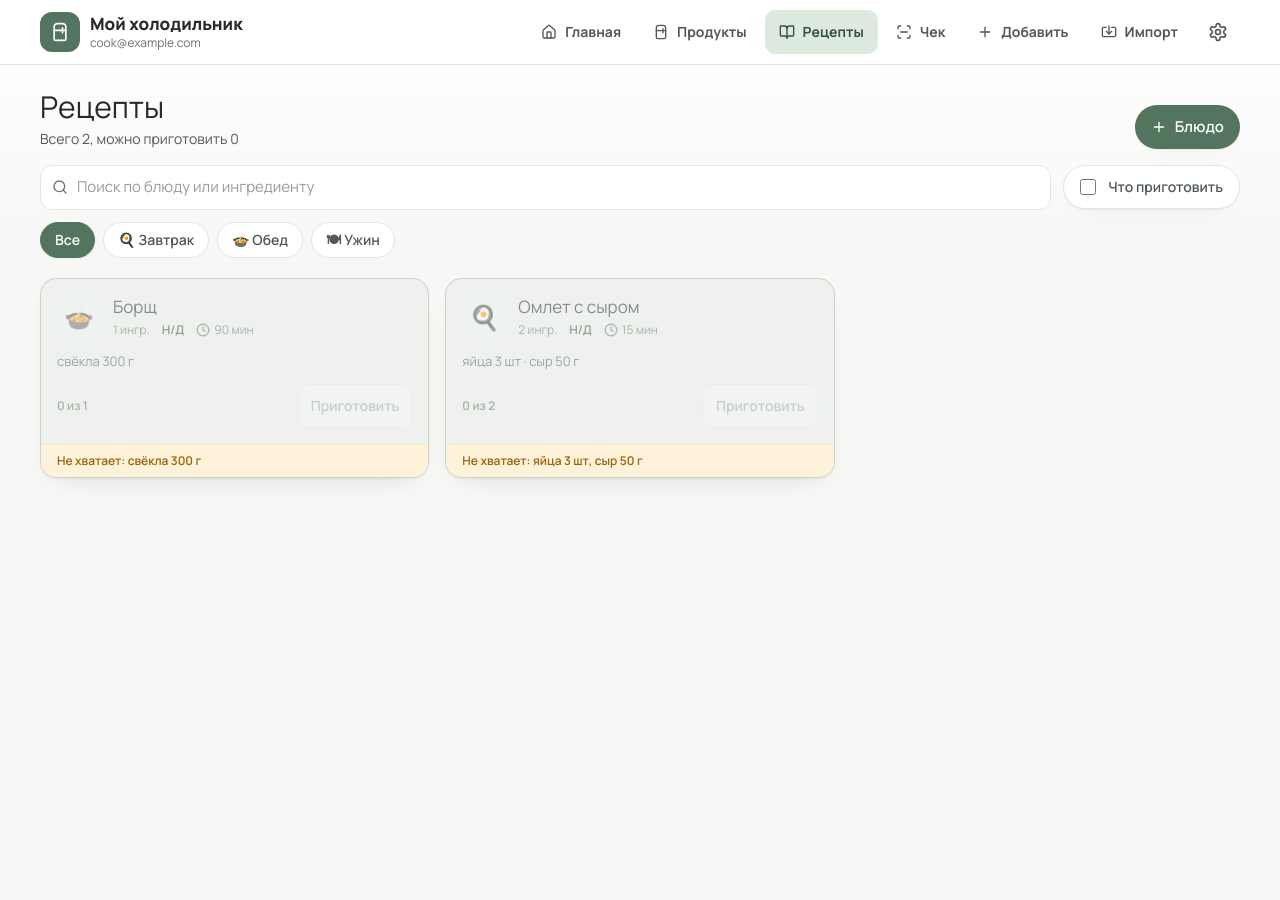
Нормализация холодильника › по подтверждению объединяет старые магазинные названия
The image size is (1280, 900).
Check: the text "Омлет с сыром" is shown, box [518,294,640,318]
What coordinates should you click on to do the following:
click the link "Продукты"
I would click on:
 (700, 32)
Its box is [653,22,746,41].
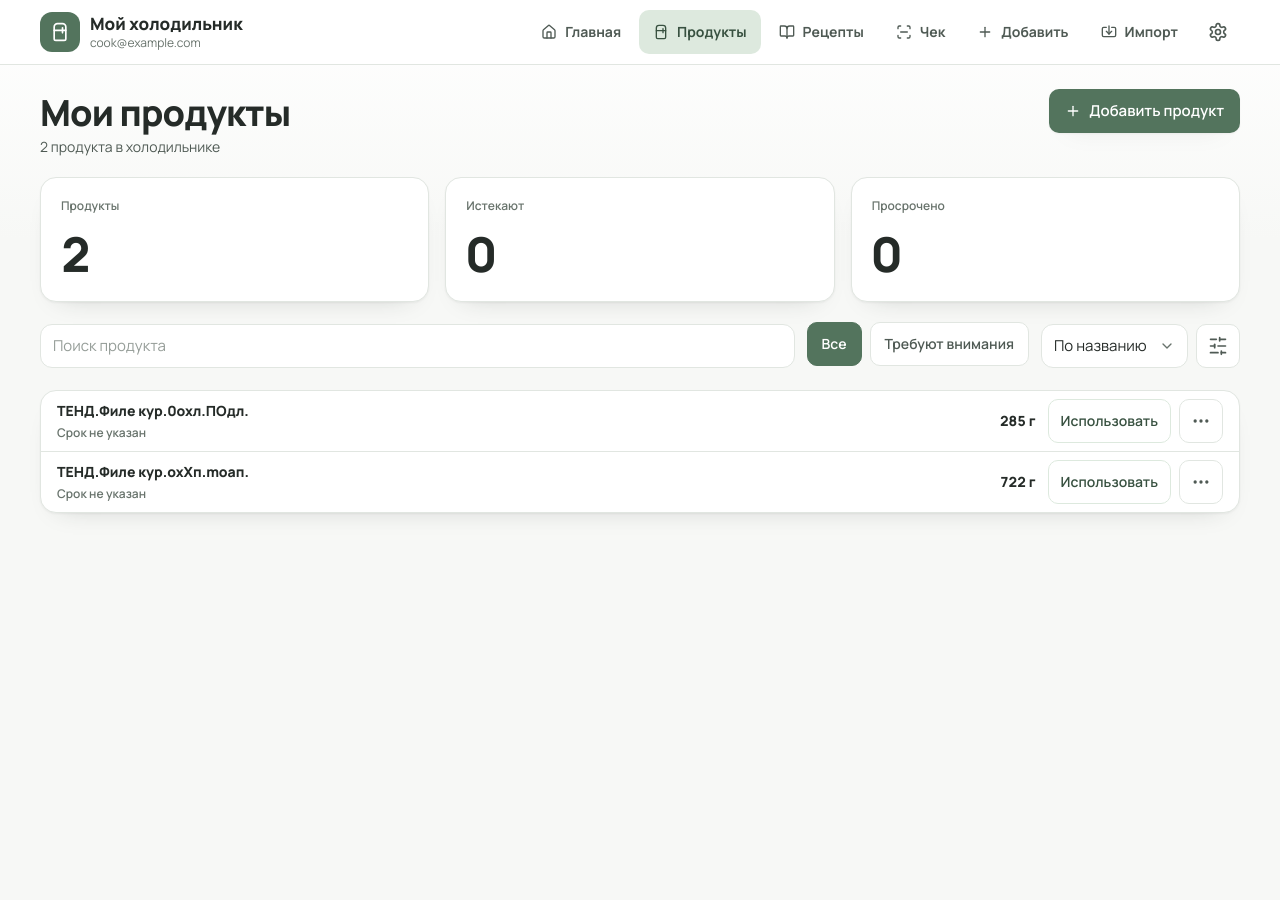
Check: the heading "Мои продукты" is shown, box [40,93,290,133]
What coordinates should you click on to do the following:
click the button named "Действия со списком"
I would click on:
 (1218, 346)
Its box is [1196,324,1240,368].
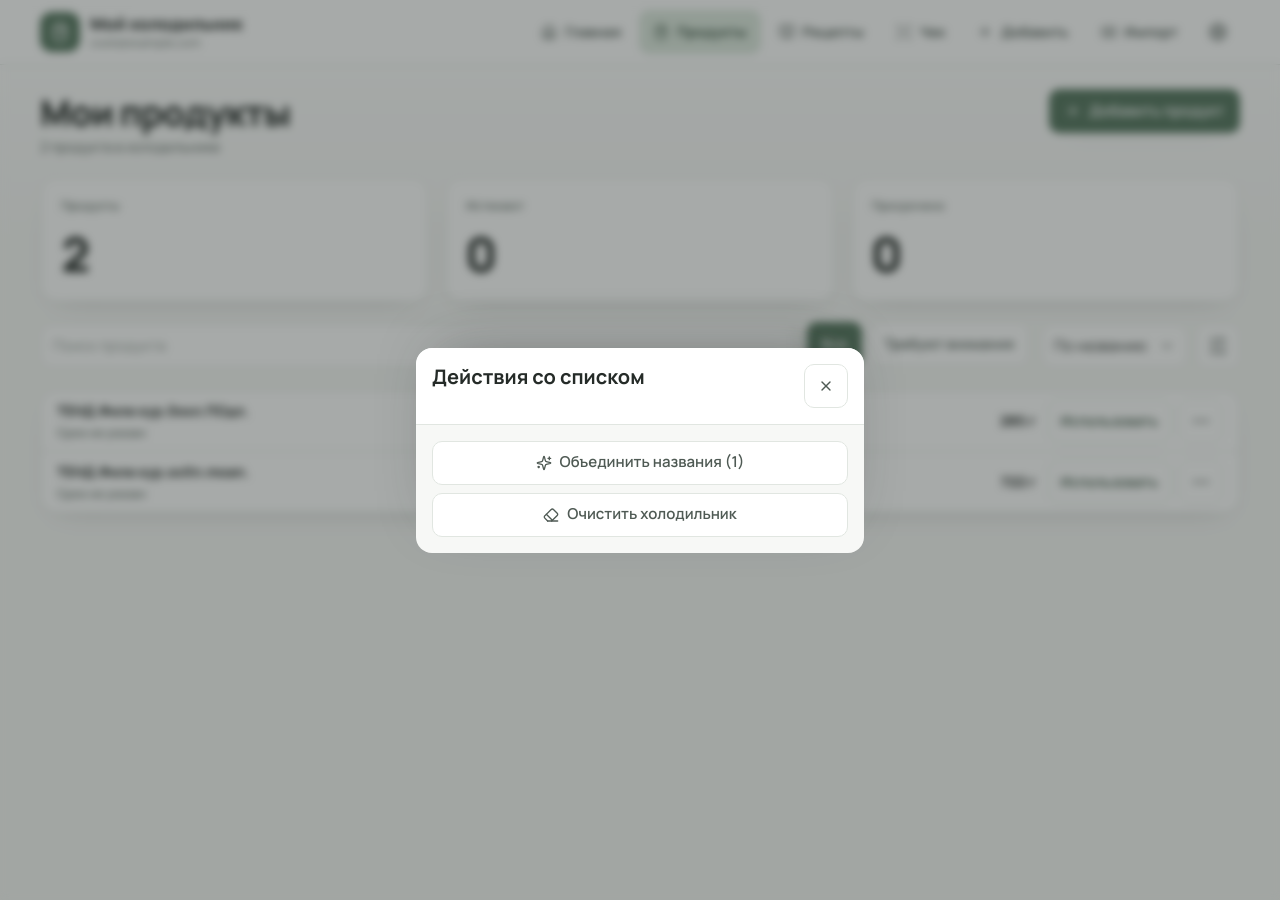
What coordinates should you click on to do the following:
click the button "Объединить названия (1)"
I would click on:
 (640, 462)
Its box is [432,440,848,484].
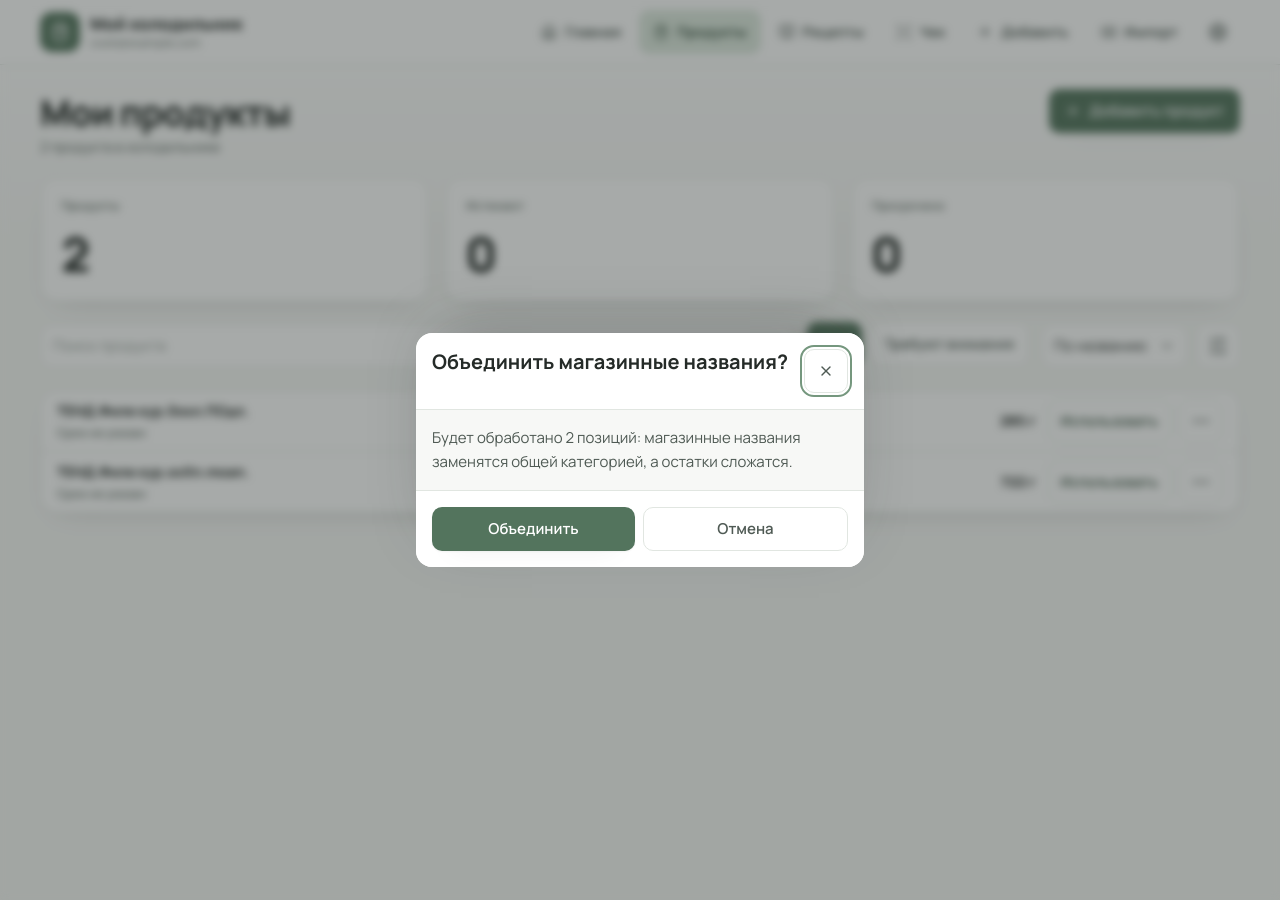
What coordinates should you click on to do the following:
click the button "Объединить"
I would click on:
 (534, 529)
Its box is [432,507,635,551].
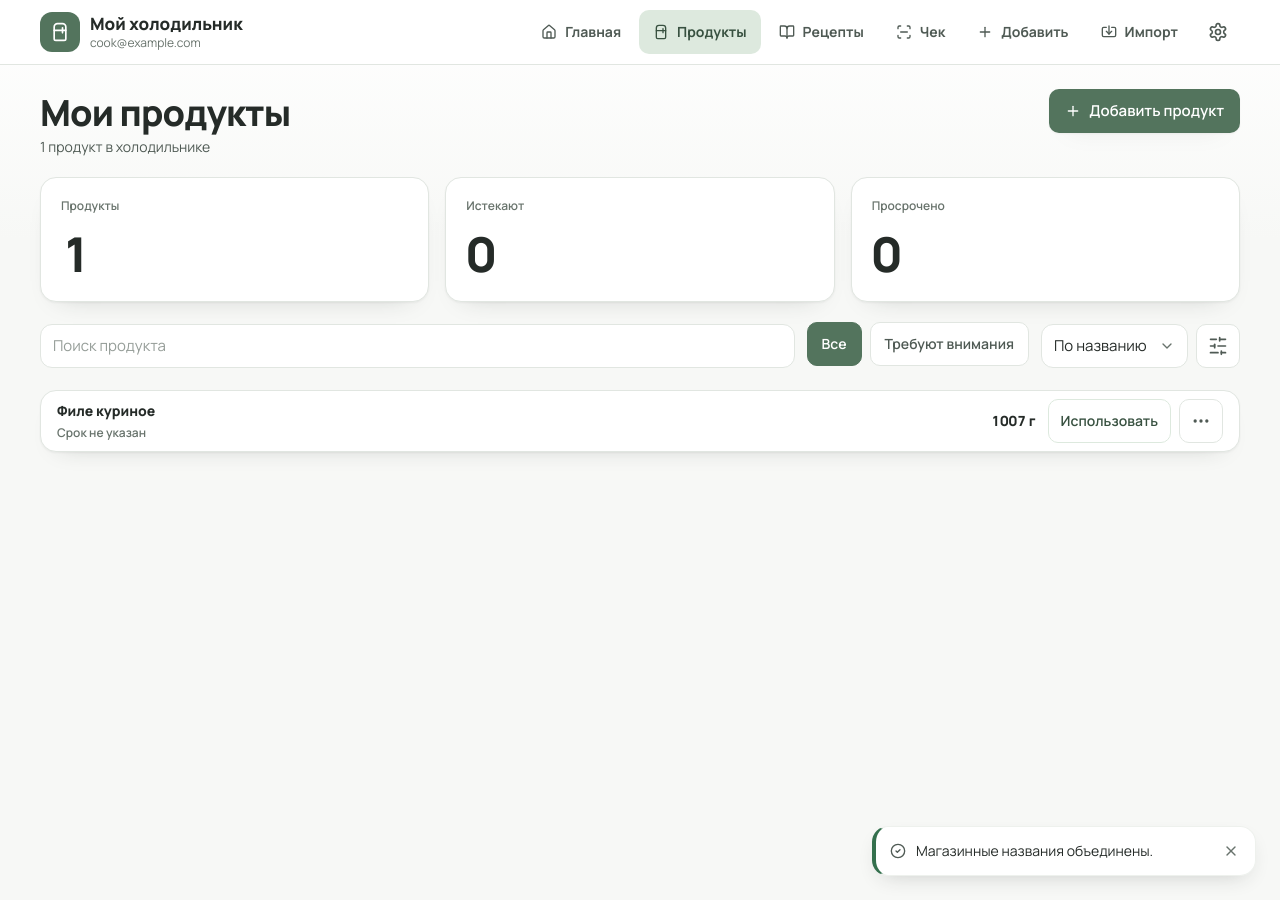
Check: the text "Филе куриное" is shown, box [57,401,155,420]
Check: the text "1007 г" is shown, box [991,411,1036,431]
Check: the button "ТЕНД.Филе кур.0охл.ПОдл." is gone
